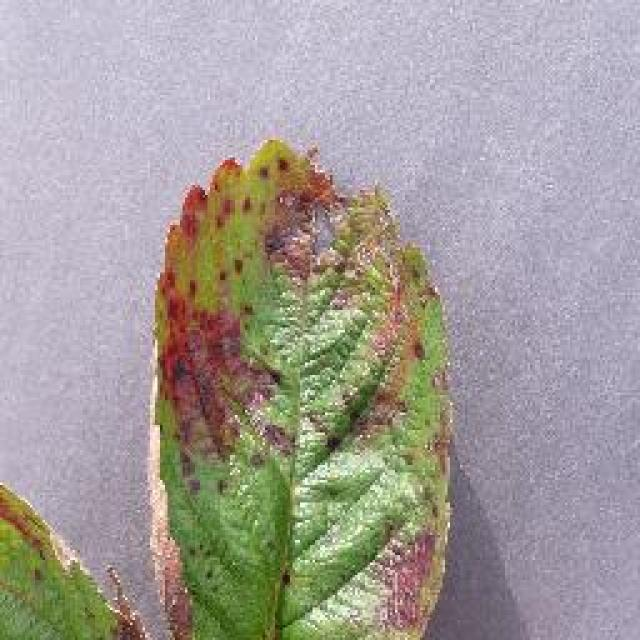Strawberry leaf scorch: (154, 180, 418, 615)
